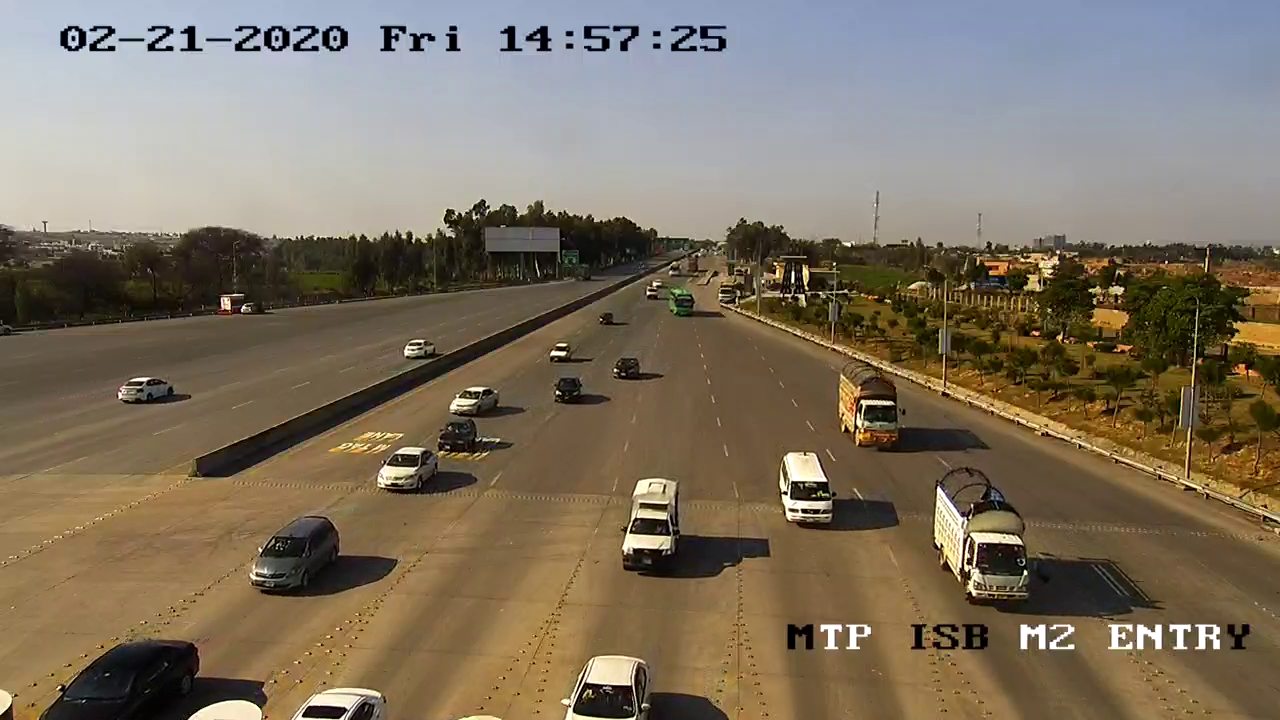f1: (241, 503, 350, 600), (609, 474, 699, 583), (551, 648, 665, 720), (365, 427, 446, 508)
f2: (769, 441, 846, 537)
f4: (917, 458, 1046, 614)
f5: (915, 456, 1044, 612), (829, 358, 912, 455)
